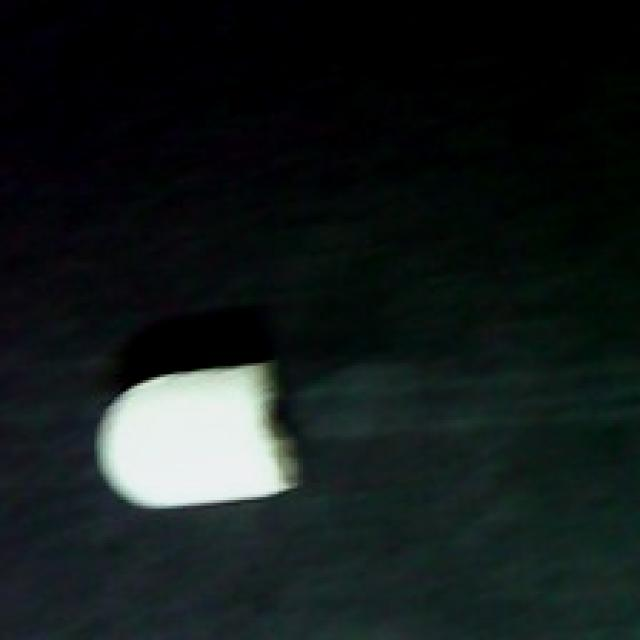defected: (86, 355, 308, 519)
